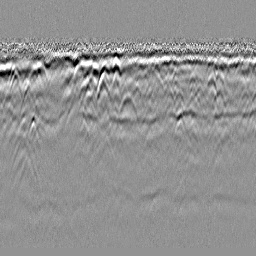cavity: (117, 90, 140, 126)
